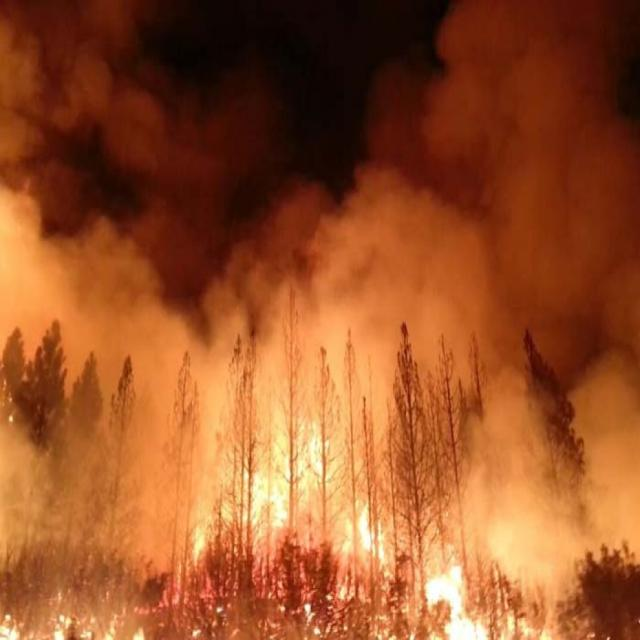Fire: (0, 425, 557, 640)
Smoke: (0, 0, 640, 592)
